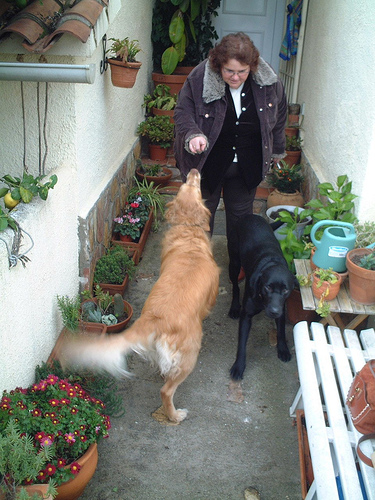without_mask: (216, 50, 254, 90)
